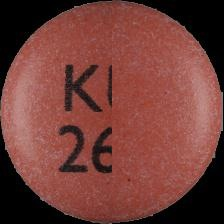21695-807: (0, 0, 224, 224)
